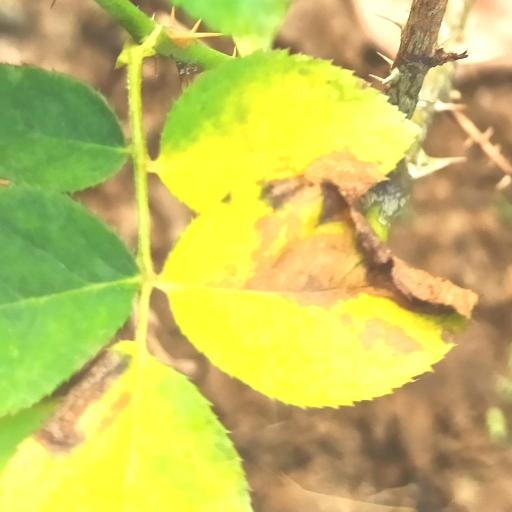healthy_leaf: (0, 186, 138, 416), (0, 64, 128, 192)
thrip: (158, 186, 477, 407), (150, 50, 416, 212), (0, 342, 252, 512)
